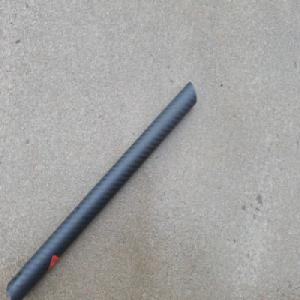LuggagePart: (5, 80, 197, 300)
